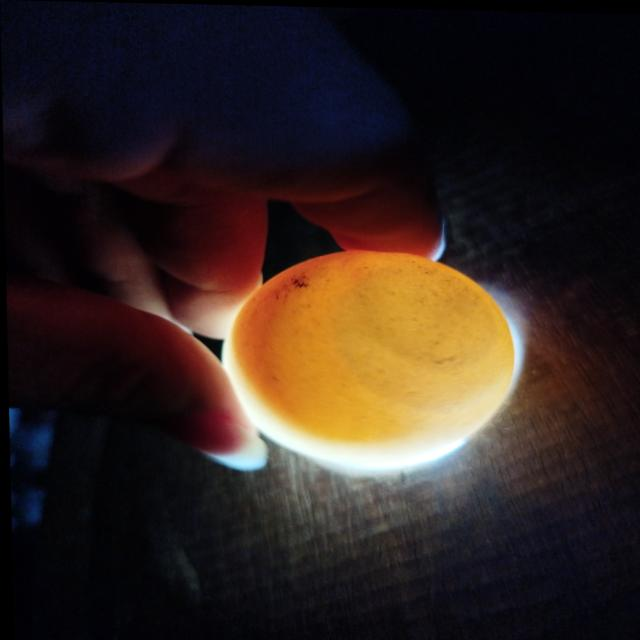Camara de Ar: (357, 267, 495, 366)
